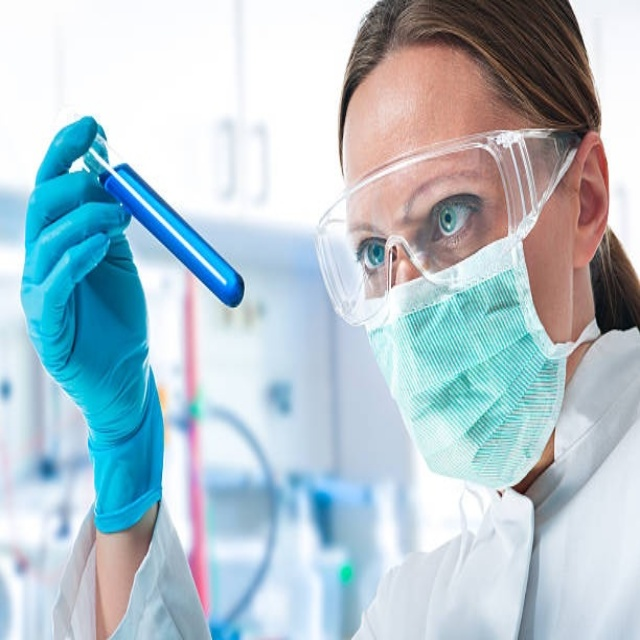Gafas: (311, 126, 581, 330)
Guantes: (20, 112, 166, 536)
Mascara: (358, 210, 590, 497)
